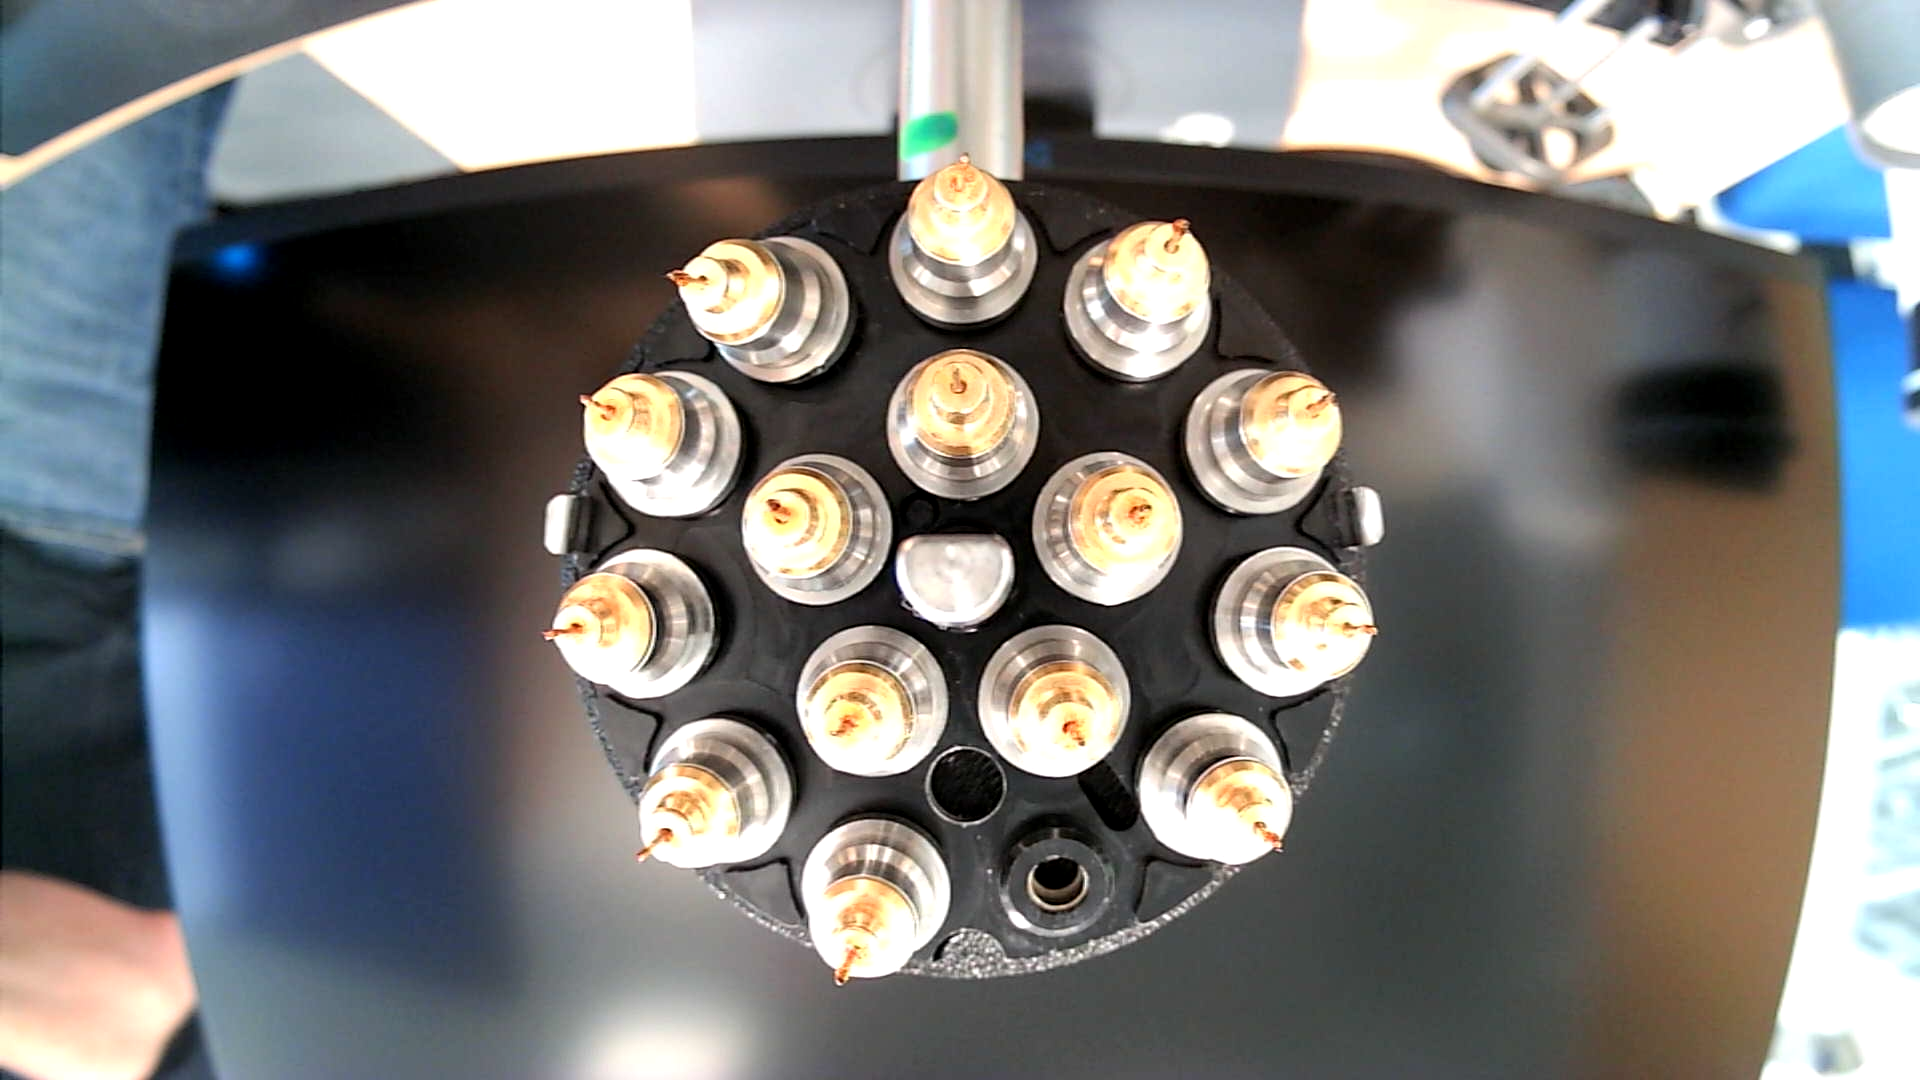empty: (992, 815, 1127, 942)
hole: (922, 742, 1010, 831)
misplaced: (663, 233, 853, 385)
pin: (538, 549, 723, 707), (796, 811, 953, 990), (887, 152, 1040, 328), (1205, 541, 1377, 698), (575, 367, 744, 524), (1062, 208, 1213, 381), (1135, 707, 1296, 866), (636, 717, 794, 876), (882, 345, 1042, 502), (793, 624, 951, 781), (1029, 447, 1183, 607), (1182, 364, 1341, 518), (977, 621, 1133, 778), (738, 452, 894, 608)
rod: (891, 529, 1018, 634)
